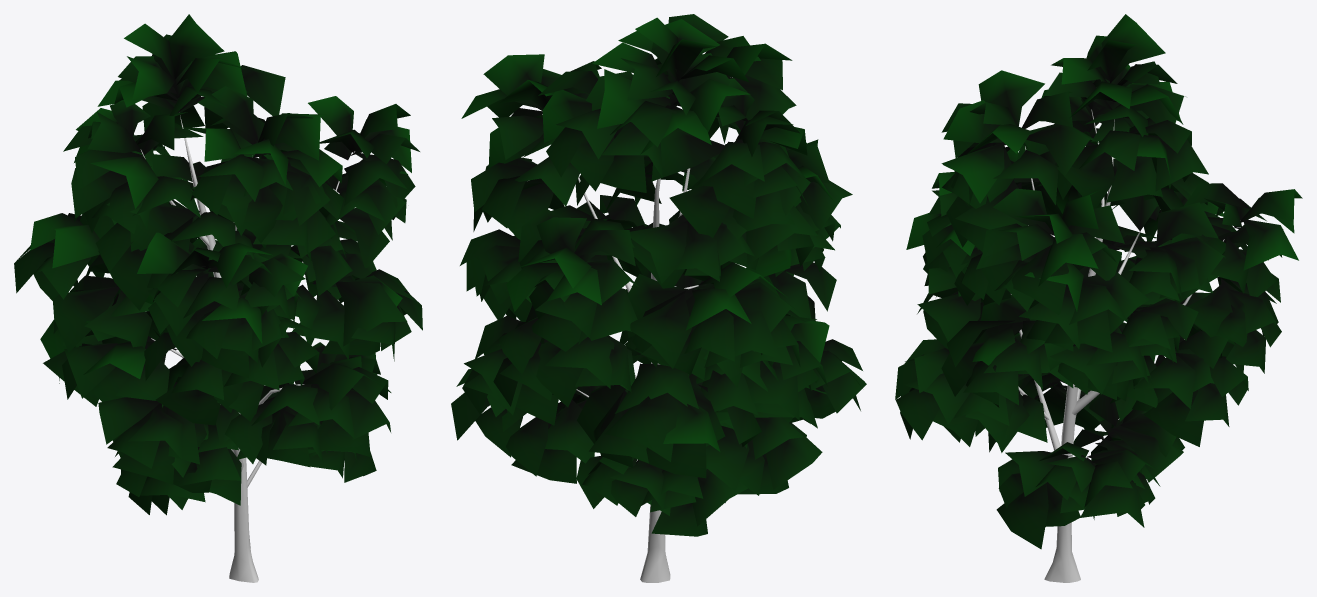
File: CupuacuTree01_afsTREE_xlprl10_xlt_xef20_xmw03_xlb05_xlod01.fbx
3 renders of one model, left to right at view 1: azimuth 30°, elevation 25°; view 2: azimuth 150°, elevation 25°; view 3: azimuth 270°, elevation 25°, orthographic. The views are drawn at different scales.
Visible parts, largest first — view 1: leaf01.229, leaf01.114, trunk_xw12_xt12, leaf01.089_xp08, leaf01.126, leaf01.109, leaf01.411, leaf01.110, leaf01.147, leaf01.369, leaf01.159, leaf01.150 (+94 smaller); view 2: leaf01.070, leaf01.423, leaf01.175, leaf01.394, leaf01.418, leaf01.123, leaf01.424, leaf01.105, leaf01.353, leaf01.042, leaf01.370, leaf01.120 (+112 smaller); view 3: trunk_xw12_xt12, leaf01.017, leaf01.204, leaf01.223, leaf01.096, leaf01.182, leaf01.081, leaf01.428, leaf01.382, leaf01.376, leaf01.085, leaf01.380 (+94 smaller).
Boxes of the visible parts, x1=… form: leaf01.229: x1=335, y1=281, x2=407, y2=346; leaf01.114: x1=52, y1=286, x2=119, y2=352; trunk_xw12_xt12: x1=180, y1=115, x2=258, y2=582; leaf01.089_xp08: x1=168, y1=14, x2=224, y2=78; leaf01.126: x1=84, y1=290, x2=152, y2=347; leaf01.109: x1=98, y1=397, x2=159, y2=444; leaf01.411: x1=130, y1=203, x2=199, y2=251; leaf01.110: x1=64, y1=343, x2=117, y2=398; leaf01.147: x1=155, y1=387, x2=220, y2=425; leaf01.369: x1=52, y1=225, x2=99, y2=268; leaf01.159: x1=98, y1=245, x2=152, y2=310; leaf01.150: x1=197, y1=86, x2=258, y2=140; leaf01.070: x1=605, y1=392, x2=677, y2=461; leaf01.423: x1=630, y1=293, x2=692, y2=368; leaf01.175: x1=615, y1=363, x2=698, y2=413; leaf01.394: x1=651, y1=128, x2=725, y2=181; leaf01.418: x1=630, y1=221, x2=687, y2=283; leaf01.123: x1=704, y1=306, x2=781, y2=367; leaf01.424: x1=669, y1=185, x2=729, y2=237; leaf01.105: x1=597, y1=69, x2=673, y2=128; leaf01.353: x1=545, y1=336, x2=614, y2=388; leaf01.042: x1=765, y1=424, x2=822, y2=489; leaf01.370: x1=690, y1=138, x2=758, y2=218; leaf01.120: x1=744, y1=360, x2=799, y2=420; trunk_xw12_xt12: x1=1044, y1=119, x2=1114, y2=582; leaf01.017: x1=996, y1=483, x2=1048, y2=549; leaf01.204: x1=1003, y1=237, x2=1068, y2=314; leaf01.223: x1=941, y1=143, x2=1004, y2=203; leaf01.096: x1=978, y1=70, x2=1044, y2=126; leaf01.182: x1=1243, y1=219, x2=1298, y2=270; leaf01.081: x1=1144, y1=390, x2=1203, y2=446; leaf01.428: x1=1026, y1=123, x2=1099, y2=175; leaf01.382: x1=1156, y1=202, x2=1218, y2=247; leaf01.376: x1=1106, y1=156, x2=1162, y2=202; leaf01.085: x1=1132, y1=354, x2=1195, y2=409; leaf01.380: x1=1057, y1=152, x2=1114, y2=208.
Size of what is drawn, in the model's own units: 4.27 by 4.58 by 6.52.
